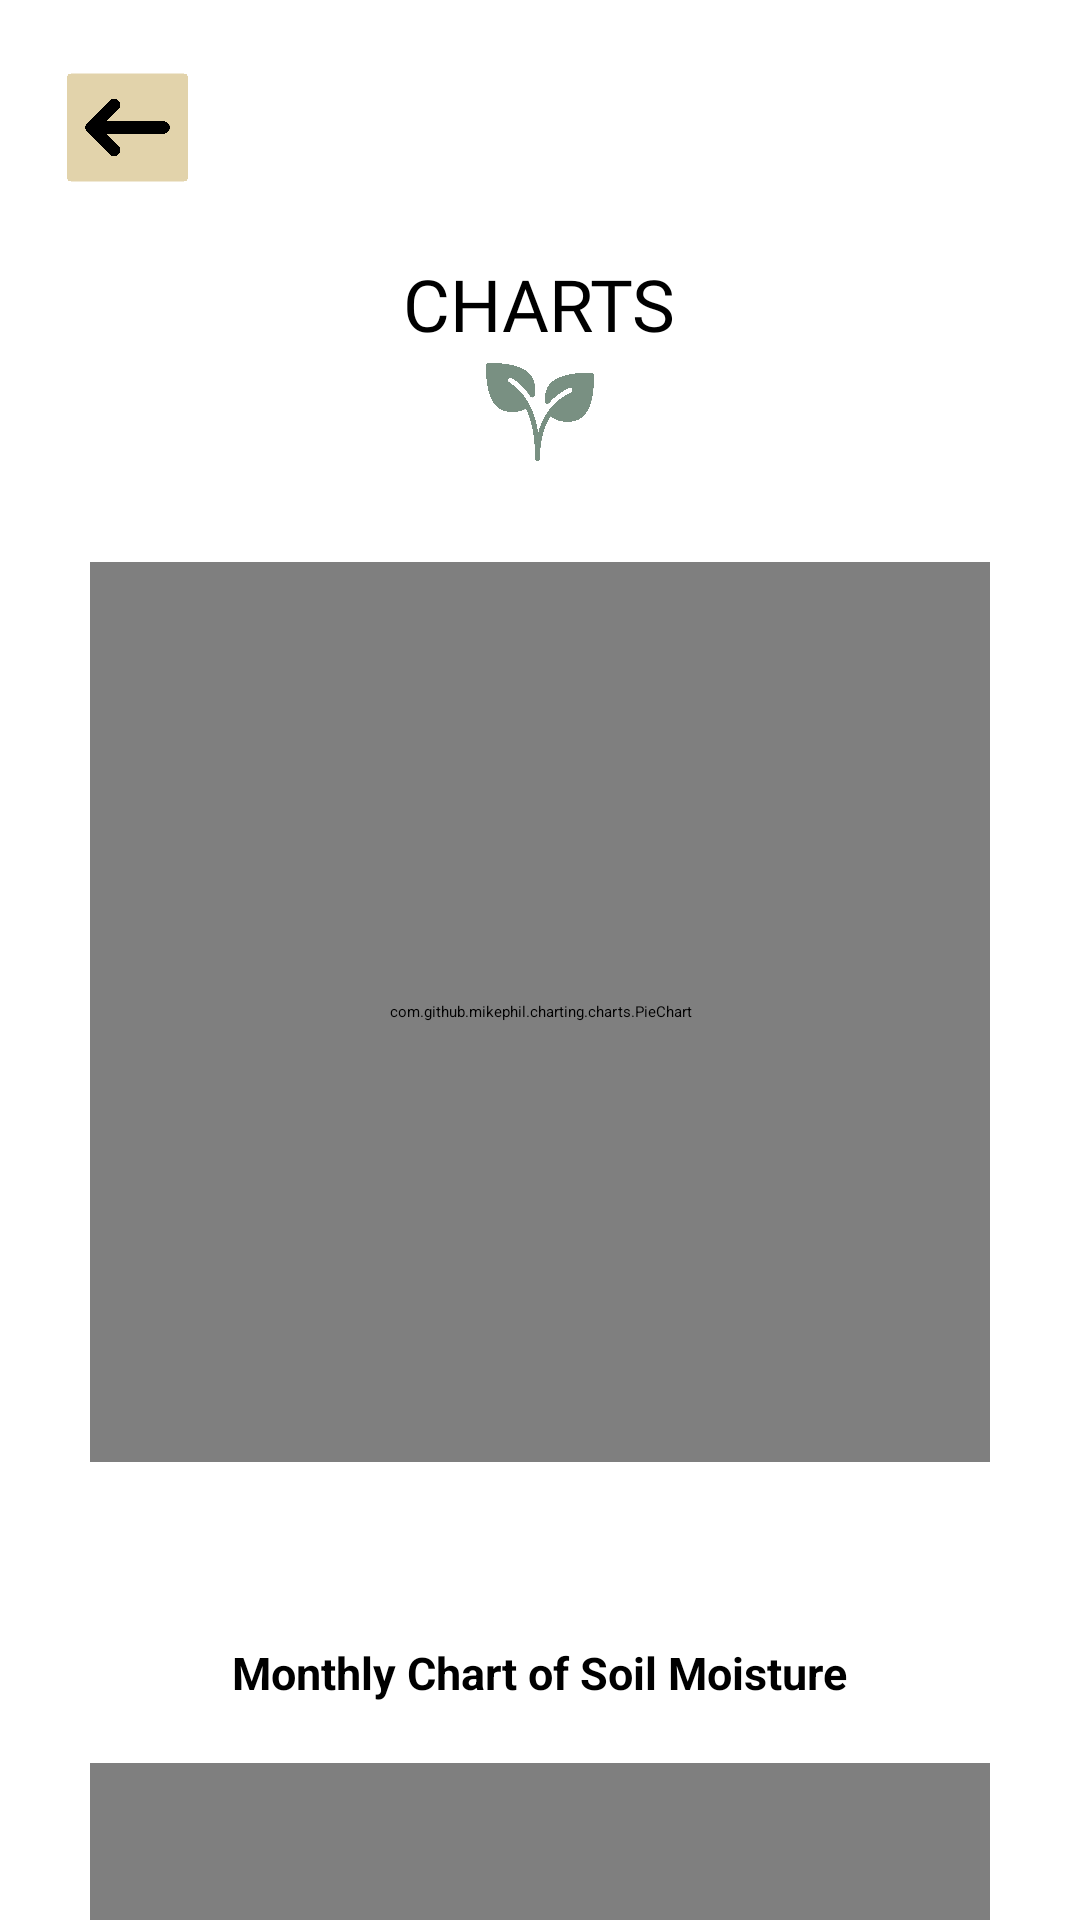

Where to tap for icons on this 1080 x 1920 app screen, as (x=x, y=y):
plant: (x=540, y=412)
